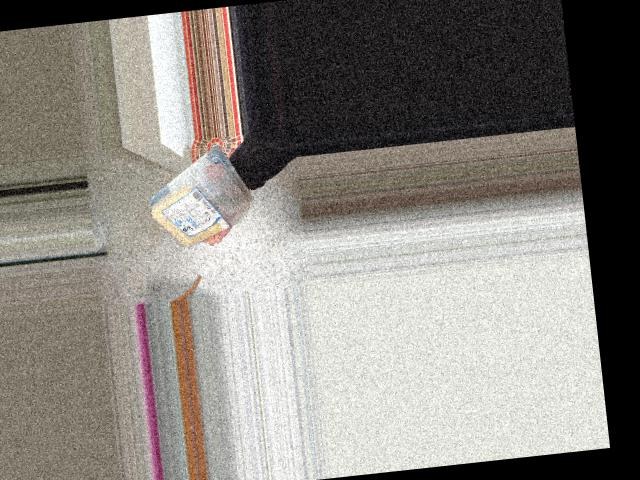cheese: (138, 150, 256, 252)
